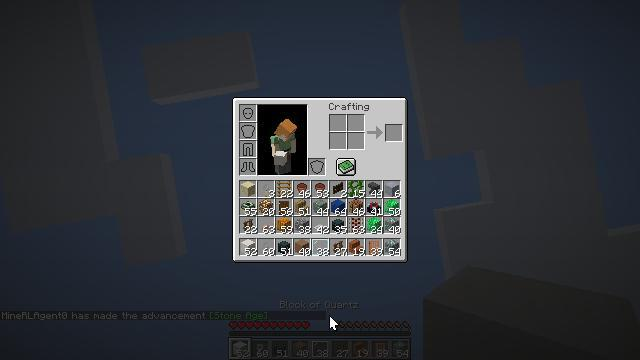cursor: (315, 329, 331, 339)
